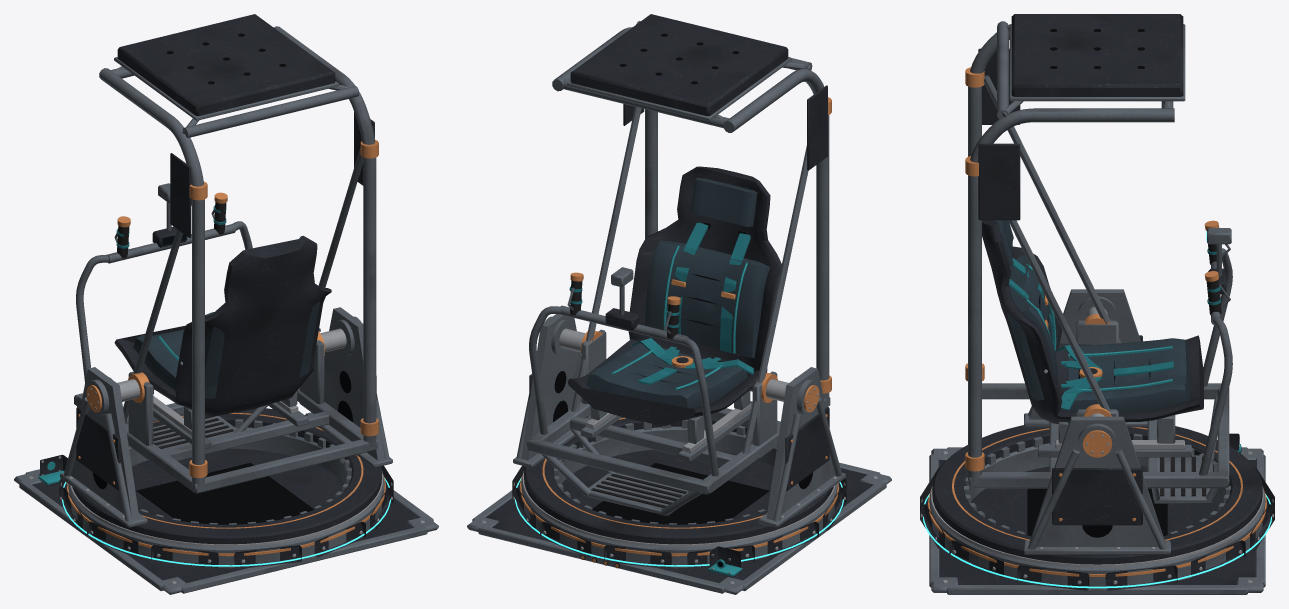
Rendered from turret_seat_4.glb.
3 renders of one model, left to right at view 1: azimuth 30°, elevation 25°; view 2: azimuth 150°, elevation 25°; view 3: azimuth 270°, elevation 25°, orthographic. The views are drawn at different scales.
Visible parts, largest first — view 1: Cradle, Base, YawStage, ShellFrame, Backrest, Cushion, RunningLight; view 2: Cradle, Base, YawStage, Backrest, ShellFrame, Cushion, RunningLight; view 3: Cradle, YawStage, Base, Cushion, ShellFrame, Backrest, RunningLight.
Boxes of the visible parts, x1,y1,x2,y2 form: Cradle: (74, 14, 378, 493); Base: (14, 426, 438, 594); YawStage: (60, 307, 392, 547); ShellFrame: (114, 235, 331, 430); Backrest: (205, 301, 320, 398); Cushion: (133, 329, 188, 408); RunningLight: (62, 478, 390, 566); Cradle: (527, 14, 831, 515); Base: (467, 426, 891, 594); YawStage: (513, 314, 845, 547); Backrest: (645, 178, 770, 357); ShellFrame: (567, 166, 781, 443); Cushion: (586, 338, 753, 408); RunningLight: (515, 478, 843, 566); Cradle: (965, 14, 1232, 503); YawStage: (931, 289, 1263, 567); Base: (920, 433, 1274, 594); Cushion: (1056, 338, 1190, 423); ShellFrame: (982, 220, 1203, 443); Backrest: (995, 220, 1058, 400); RunningLight: (923, 493, 1271, 588).
Bounding box in the file's own units: 1.01 × 1.5 × 1.01.
12 materials, 8 textured.
